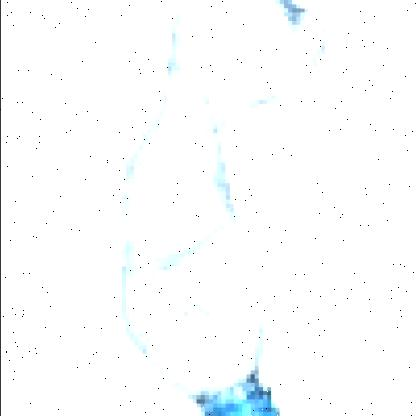Plastic Bottle: (117, 0, 335, 416)
